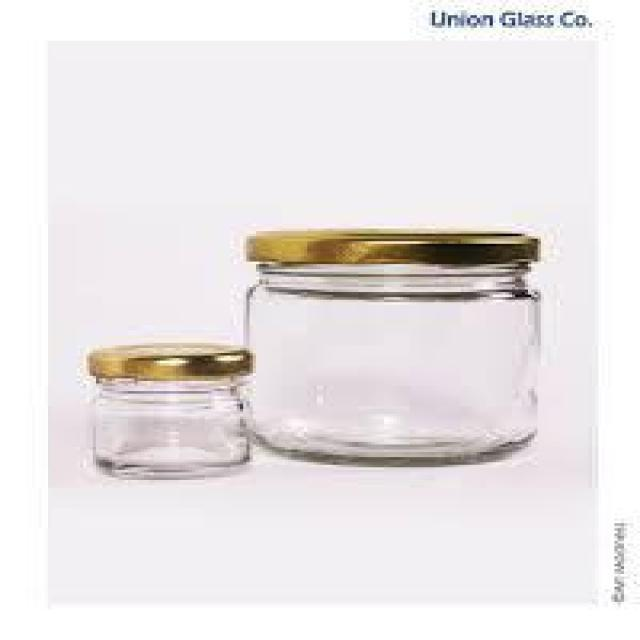Glass: (240, 225, 543, 469), (85, 339, 258, 484)
